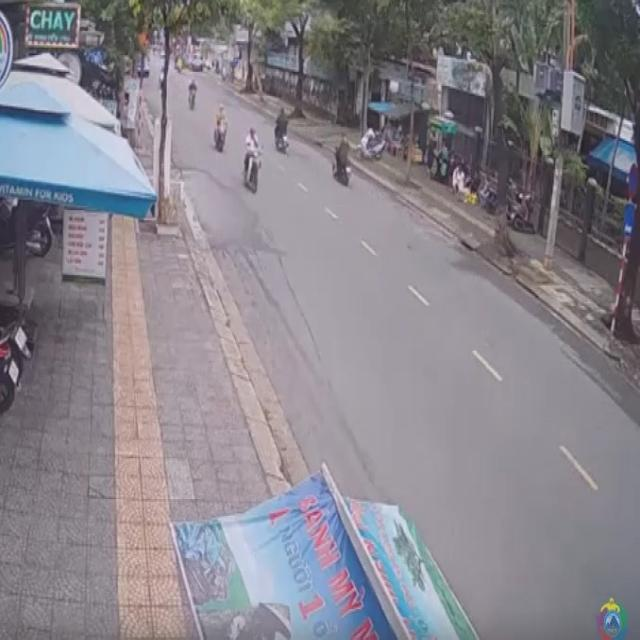motorbike: (240, 125, 262, 193), (329, 132, 353, 184), (273, 106, 291, 158), (214, 104, 226, 150)
